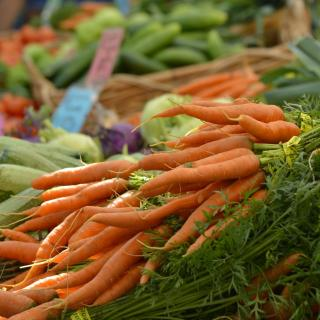Carrot: (0, 108, 302, 319), (169, 97, 285, 125), (135, 102, 247, 129), (230, 114, 302, 142), (13, 298, 63, 320), (0, 288, 37, 316), (1, 241, 40, 267), (0, 228, 39, 245)
